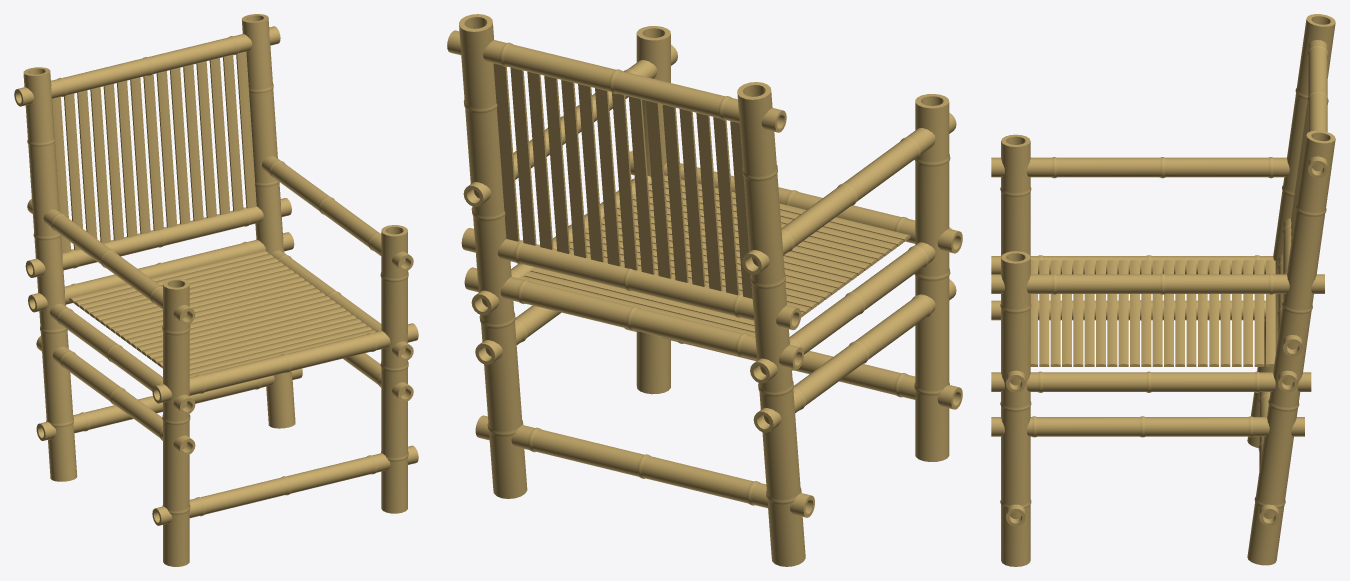
The model's file is ghe_tre_banh.glb.
3 renders of one model, left to right at view 1: azimuth 30°, elevation 25°; view 2: azimuth 150°, elevation 25°; view 3: azimuth 270°, elevation 25°, orthographic. The views are drawn at different scales.
Visible parts, largest first — view 1: ghe_tre_banh; view 2: ghe_tre_banh; view 3: ghe_tre_banh.
Part boxes in pixels (x1,y1,x2,y2): ghe_tre_banh: (14, 14, 418, 566); ghe_tre_banh: (447, 14, 962, 566); ghe_tre_banh: (991, 14, 1335, 566).
Size of the model in its own units: 0.66 by 0.9538 by 0.6998.
